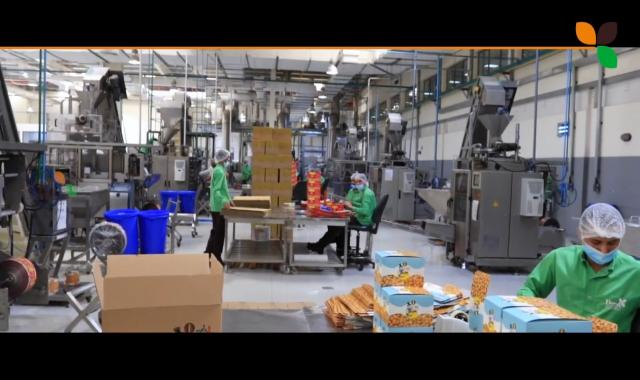hairnet: (580, 202, 625, 245), (213, 147, 230, 167), (351, 170, 367, 186)
